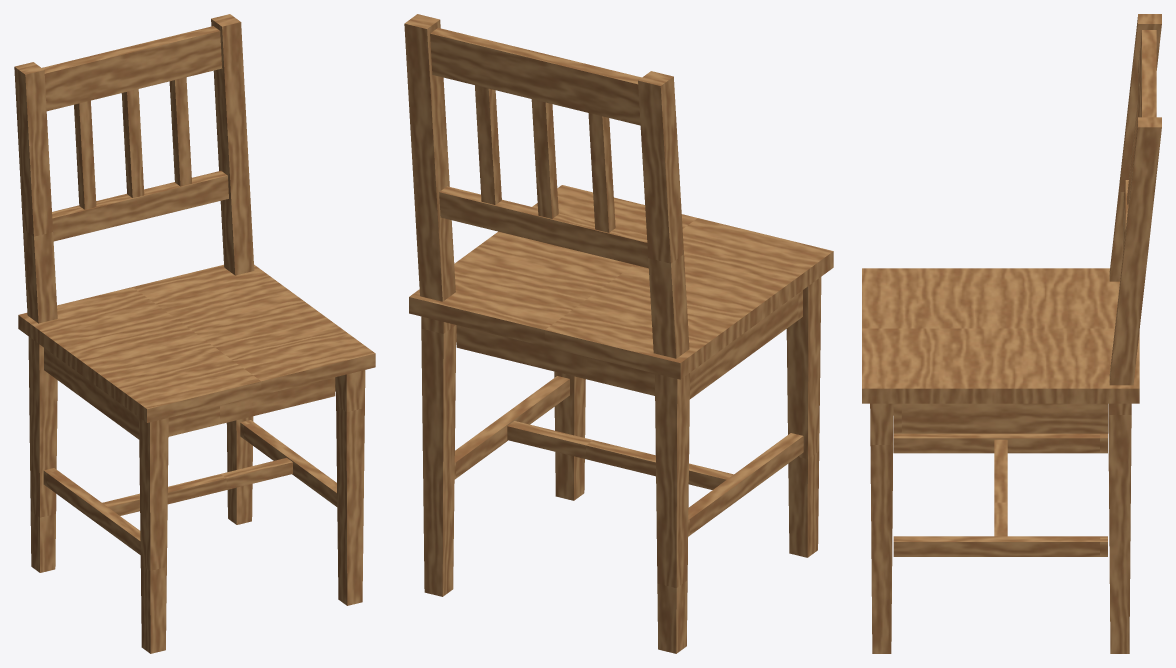
3 views of the same model, side by side, from view 1: azimuth 30°, elevation 25°; view 2: azimuth 150°, elevation 25°; view 3: azimuth 270°, elevation 25° (orthographic). The views are drawn at different scales.
Parts seen in each view (by area): view 1: Kitchen chair, wooden; view 2: Kitchen chair, wooden; view 3: Kitchen chair, wooden.
Boxes of the visible parts, left/top/right/bottom form: Kitchen chair, wooden: left=14, top=14, right=375, bottom=653; Kitchen chair, wooden: left=404, top=14, right=833, bottom=653; Kitchen chair, wooden: left=862, top=14, right=1161, bottom=653.
Bounding box in the file's own units: 0.43 × 0.88 × 0.4535.
Materials: 1 (1 with a texture image).
